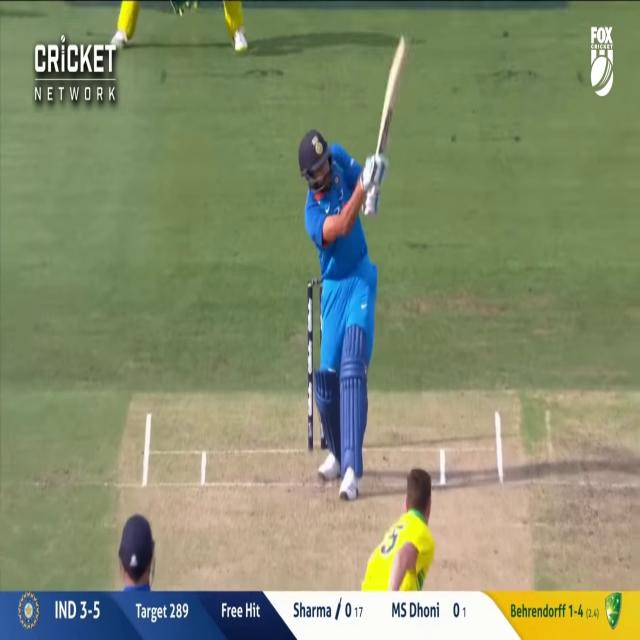stump: (308, 283, 325, 446)
